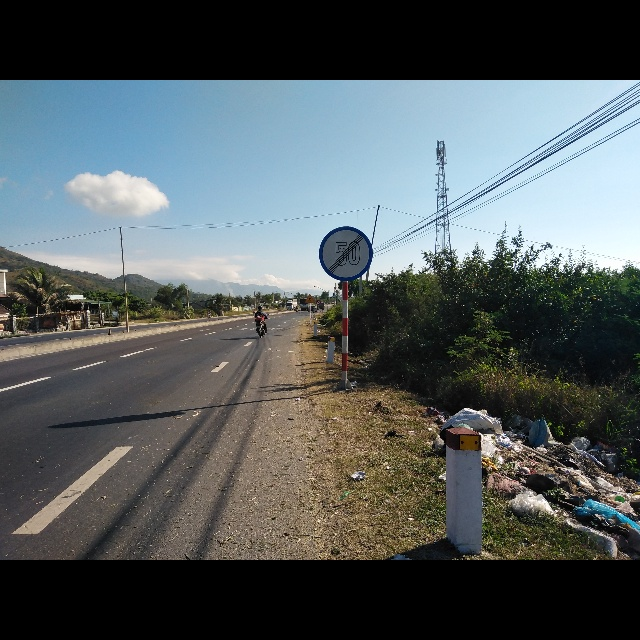Hết hạn chế tốc độ tối đa 50km/h: (318, 225, 376, 285)
